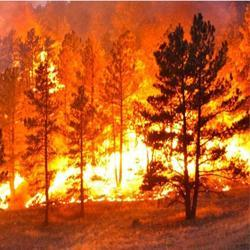fire: (96, 132, 151, 192), (205, 137, 249, 161), (48, 162, 77, 197), (0, 171, 21, 207)
